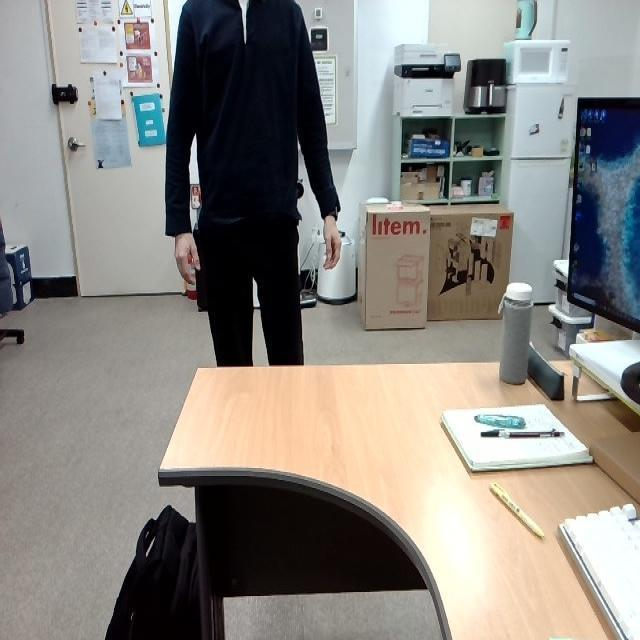bare_hand: (167, 216, 203, 289), (317, 209, 346, 274)
